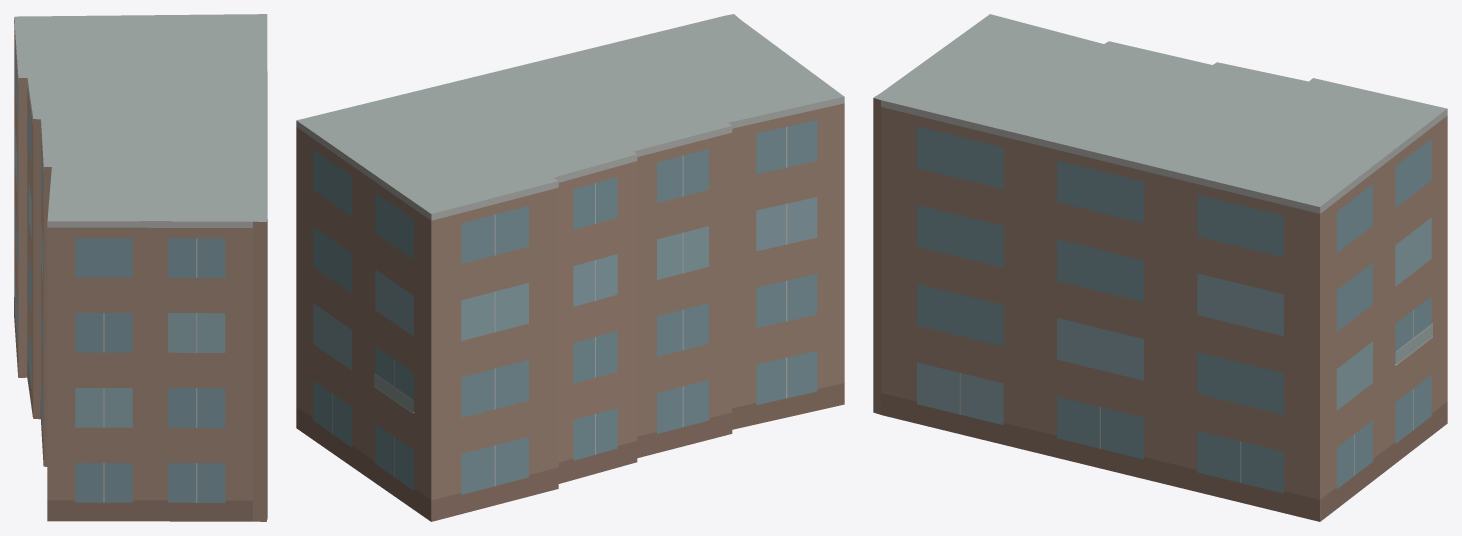
The model's file is survey-upis-32671722.glb.
The picture shows the model from 3 angles, left to right: view 1: azimuth 30°, elevation 25°; view 2: azimuth 150°, elevation 25°; view 3: azimuth 270°, elevation 25°; orthographic projection. The views are drawn at different scales.
Parts seen in each view (by area): view 1: survey-upis-32671722.tmp; view 2: survey-upis-32671722.tmp; view 3: survey-upis-32671722.tmp.
Part boxes in pixels (x1,y1,x2,y2): survey-upis-32671722.tmp: [14, 14, 267, 521]; survey-upis-32671722.tmp: [296, 14, 844, 521]; survey-upis-32671722.tmp: [873, 14, 1447, 521].
Size of the model in its own units: 15.01 by 11.4 by 18.86.
